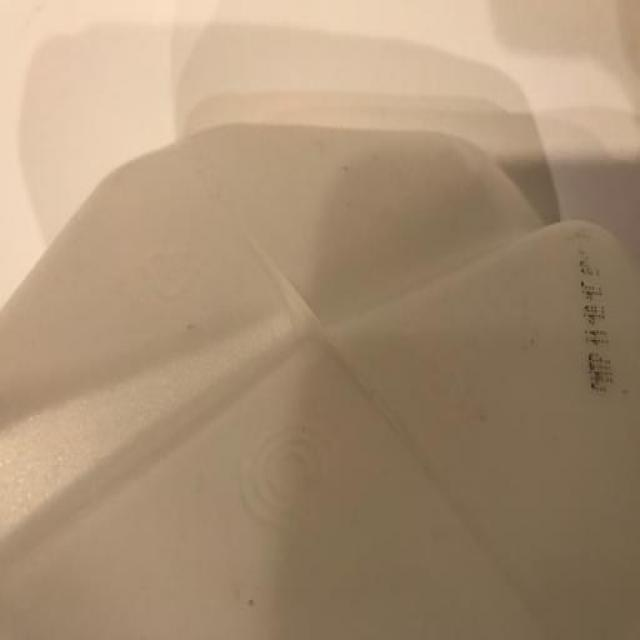Waste: (0, 125, 640, 640)
